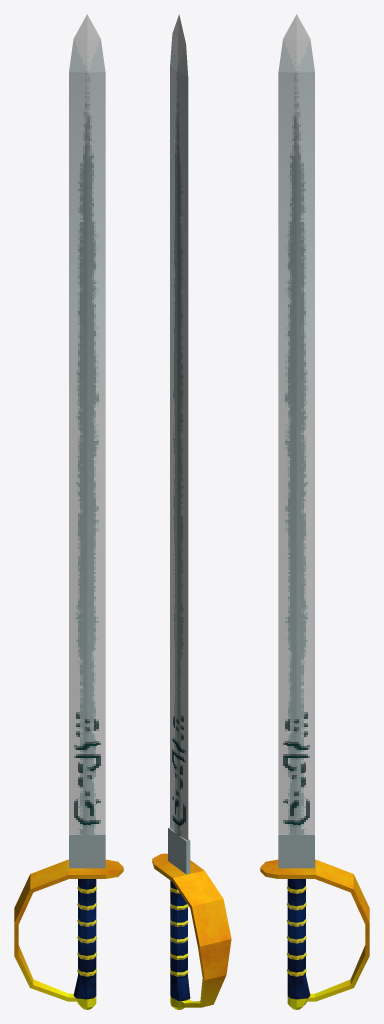
Rendered from blade.gltf.
3 renders of one model, left to right at view 1: azimuth 90°, elevation 25°; view 2: azimuth 210°, elevation 25°; view 3: azimuth 270°, elevation 25°, orthographic.
Parts seen in each view (by area): view 1: Sword; view 2: Sword; view 3: Sword.
Boxes of the visible parts, x1,y1,x2,y2 form: Sword: [14, 14, 123, 1009]; Sword: [152, 14, 231, 1009]; Sword: [260, 14, 369, 1009].
Bounding box in the file's own units: 0.0313 × 0.9375 × 0.0937.
1 material, 1 textured.
